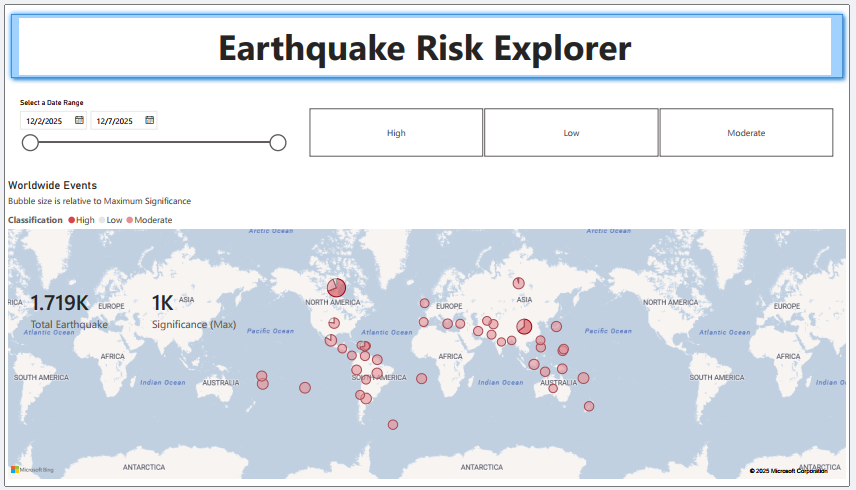

Layout of this report page (visuals, bound fields, positions):
{"tool":"powerbi","page":{"name":"Page 1","canvas":[1280,720],"ordinal":0},"visuals":[{"type":"map","title":"Worldwide Events","fields":{"Category":["earthquake_events_gold.country_code"],"Size":["Max(earthquake_events_gold.sig)"],"Series":["earthquake_events_gold.sig_class"]},"box":[0,259.3,1280,460.7],"z":0},{"type":"slicer","fields":{"Values":["earthquake_events_gold.time"]},"box":[10.4,131.9,425.2,100.7],"z":1000},{"type":"slicer","fields":{"Values":["earthquake_events_gold.sig_class"]},"box":[435.6,145.2,844.4,87.4],"z":2000},{"type":"cardVisual","fields":{"Data":["Count(earthquake_events_gold.id)","Max(earthquake_events_gold.sig)"]},"box":[10.4,407.4,395.6,99.3],"z":3000},{"type":"shape","box":[0,0,1280,114.1],"z":4000},{"type":"textbox","box":[20.7,14.8,1231.1,85.9],"z":5000}]}

Visuals, with their boxes in screenshot pixels (x1, y1, x2, y2), scaled from the page's 1280x720 canvas onto the 856x490 screenshot:
"Worldwide Events" map: <bbox>0, 176, 855, 489</bbox>
slicer - earthquake_events_gold.time: <bbox>7, 90, 291, 158</bbox>
slicer - earthquake_events_gold.sig_class: <bbox>291, 99, 855, 158</bbox>
cardVisual - Count(earthquake_events_gold.id) x Max(earthquake_events_gold.sig): <bbox>7, 277, 272, 345</bbox>
shape: <bbox>0, 0, 855, 78</bbox>
textbox: <bbox>14, 10, 837, 69</bbox>
